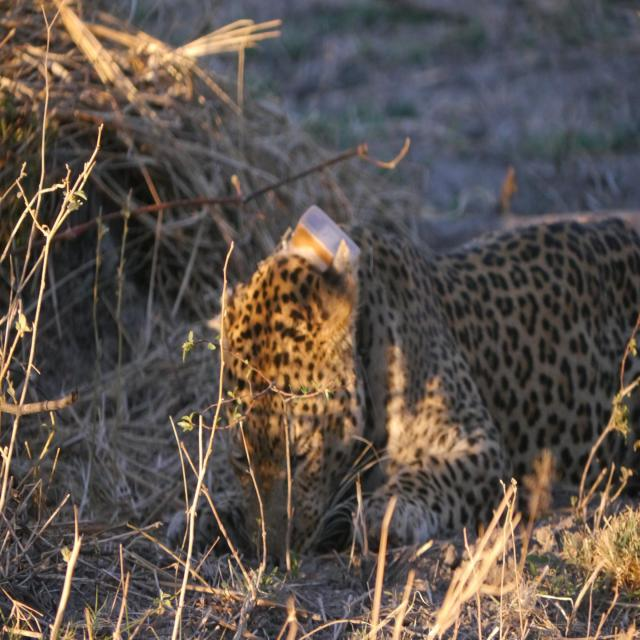Leopard: (175, 195, 640, 587)
